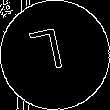L_S: (35, 27, 75, 83)
